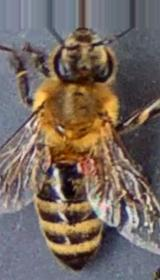varroa_mite: (73, 150, 101, 179)
